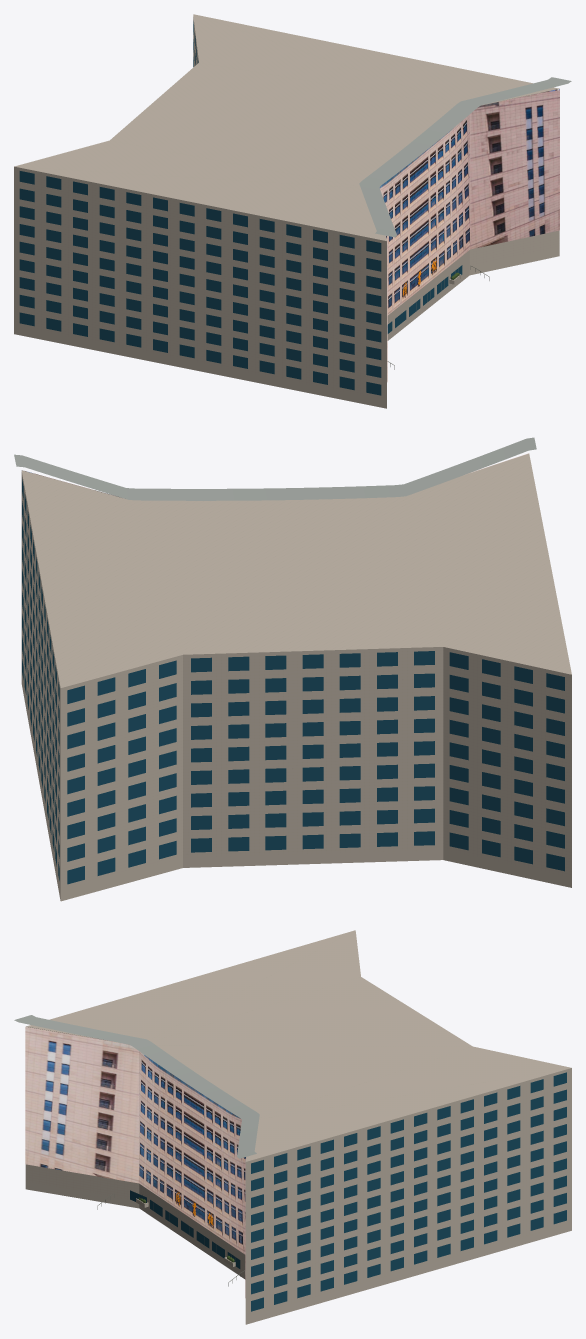
3 renders of one model, top to bottom at view 1: azimuth 30°, elevation 25°; view 2: azimuth 150°, elevation 25°; view 3: azimuth 270°, elevation 25°, orthographic. The views are drawn at different scales.
Parts seen in each view (by area): view 1: B13_library, Library_refined_details, Photo_projected_library_facade_2, Photo_projected_library_facade_1, B13_library_plinth; view 2: B13_library, Library_refined_details, B13_library_plinth; view 3: B13_library, Library_refined_details, Photo_projected_library_facade_0, Photo_projected_library_facade_1, B13_library_plinth.
Boxes of the visible parts, x1=… form: B13_library: x1=14, y1=14, x2=559, y2=400; Library_refined_details: x1=19, y1=21, x2=571, y2=395; Photo_projected_library_facade_2: x1=470, y1=89, x2=559, y2=249; Photo_projected_library_facade_1: x1=379, y1=114, x2=470, y2=315; B13_library_plinth: x1=14, y1=248, x2=559, y2=408; B13_library: x1=21, y1=453, x2=571, y2=890; Library_refined_details: x1=14, y1=437, x2=564, y2=884; B13_library_plinth: x1=21, y1=674, x2=571, y2=901; B13_library: x1=25, y1=930, x2=571, y2=1316; Library_refined_details: x1=14, y1=1015, x2=566, y2=1311; Photo_projected_library_facade_0: x1=25, y1=1026, x2=138, y2=1183; Photo_projected_library_facade_1: x1=139, y1=1051, x2=245, y2=1254; B13_library_plinth: x1=25, y1=1181, x2=571, y2=1324.
Size of the model in its own units: 115 by 38.59 by 115.
9 materials, 4 textured.
